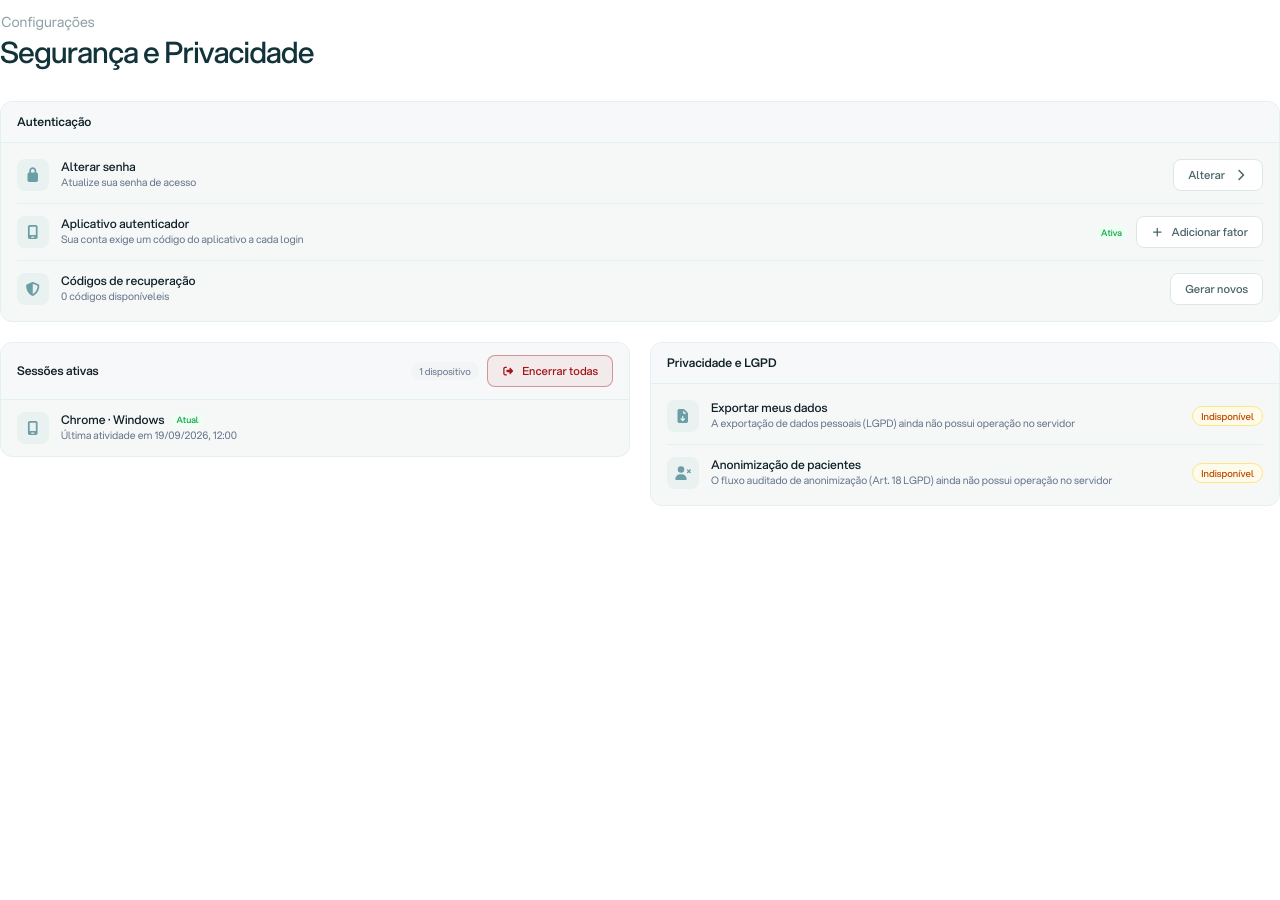
Test case: segurança: alterar senha › mantém o formulário e exibe o erro quando a senha atual é recusada
Click the button "Alterar": (1218, 175) [1173,159,1263,191]
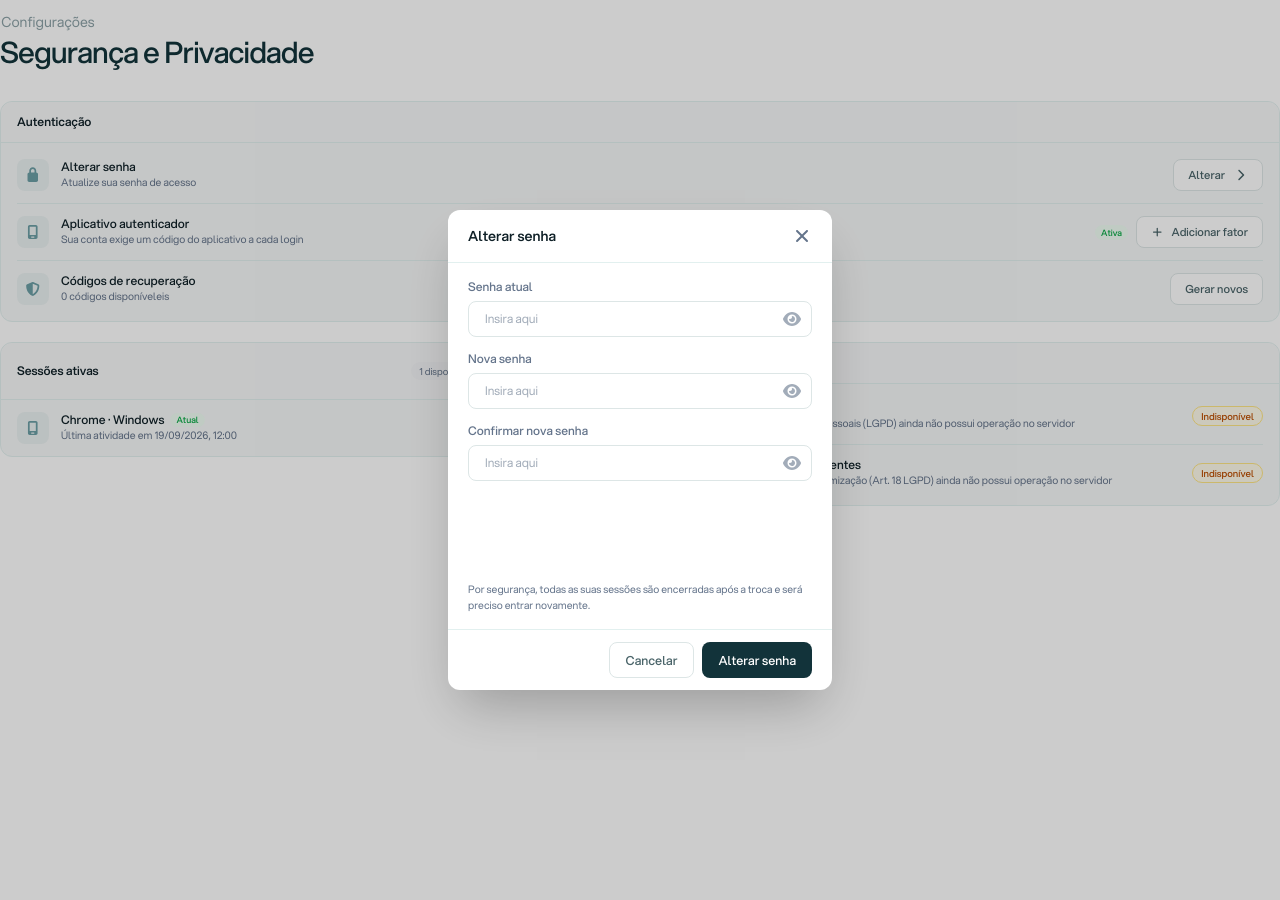
In the 1st password field with placeholder "Insira aqui": (640, 319) [468,301,812,337], type "SenhaErrada#1"
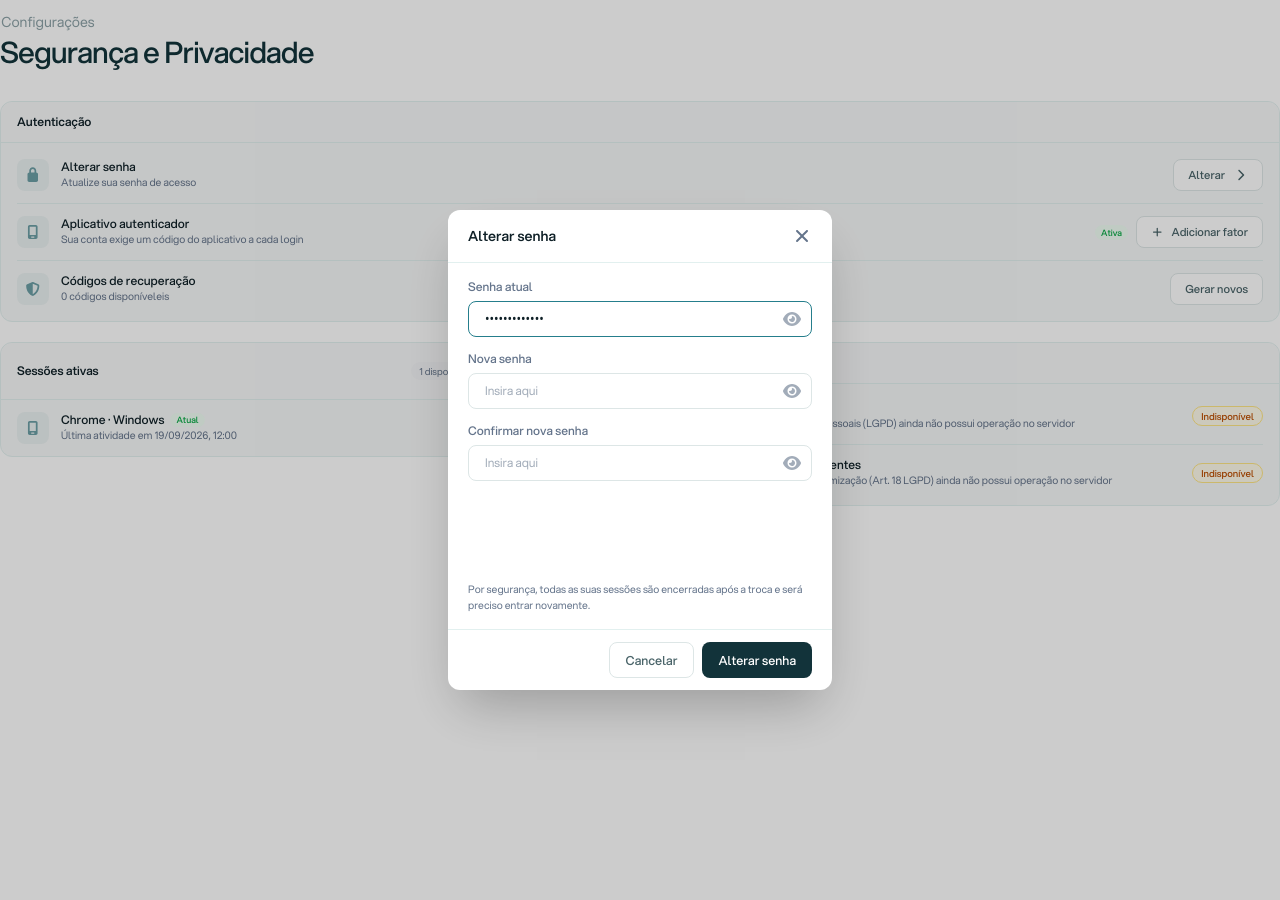
In the 1st password field with placeholder "Insira aqui": (640, 391) [468,373,812,409], type "NovaSenha#123"
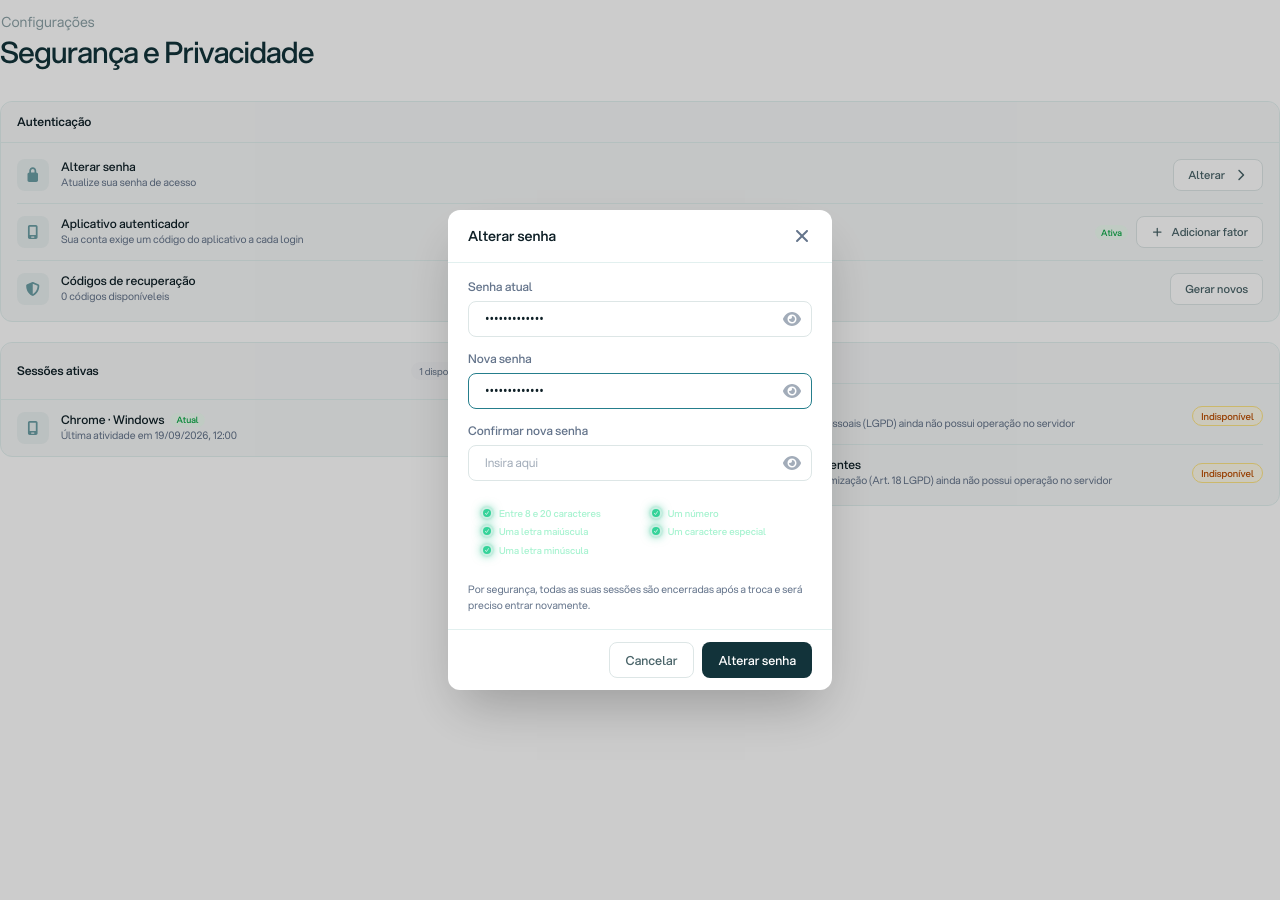
In the password field with placeholder "Insira aqui": (640, 463) [468,445,812,481], type "NovaSenha#123"
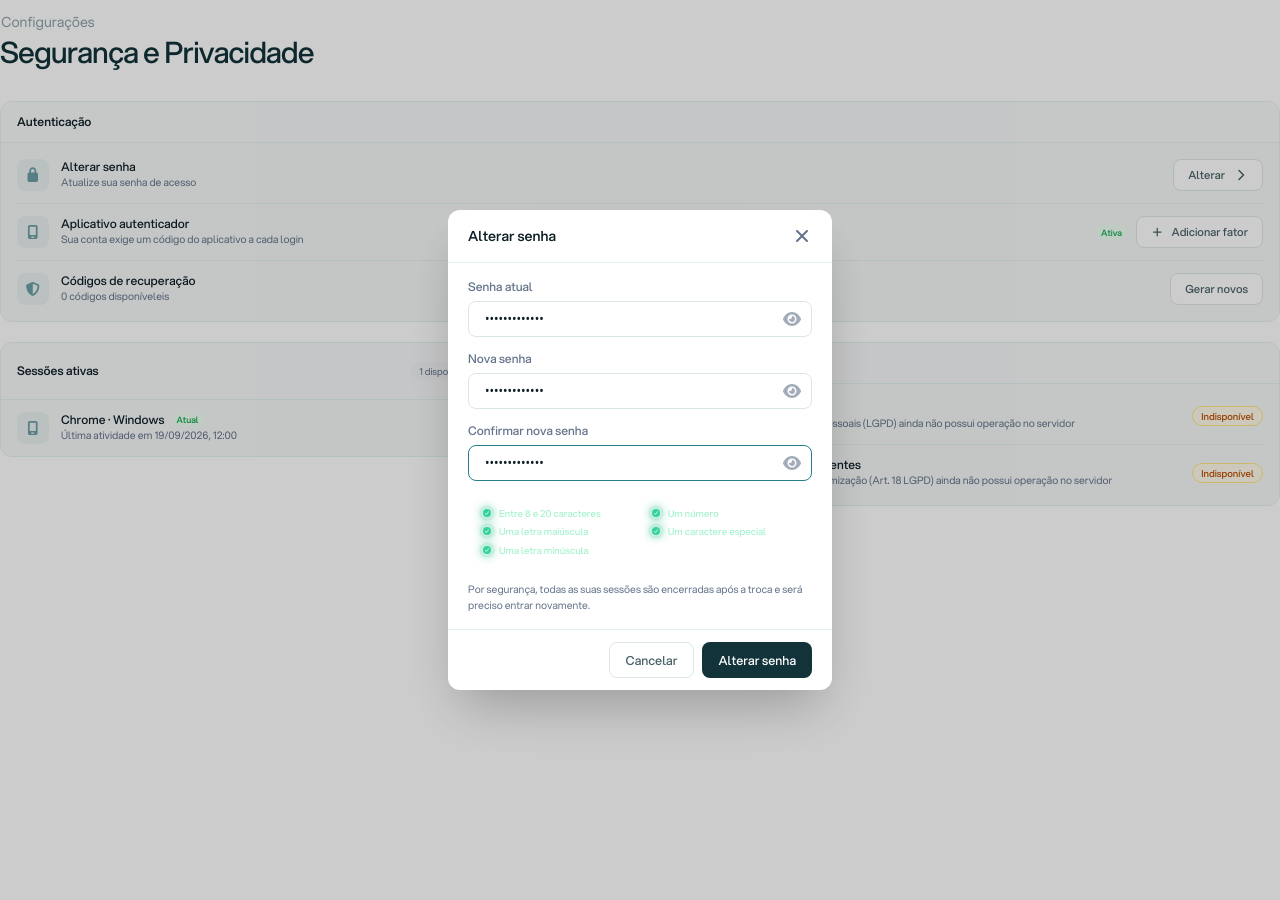
Click the button "Alterar senha": (757, 660) [702,642,812,678]
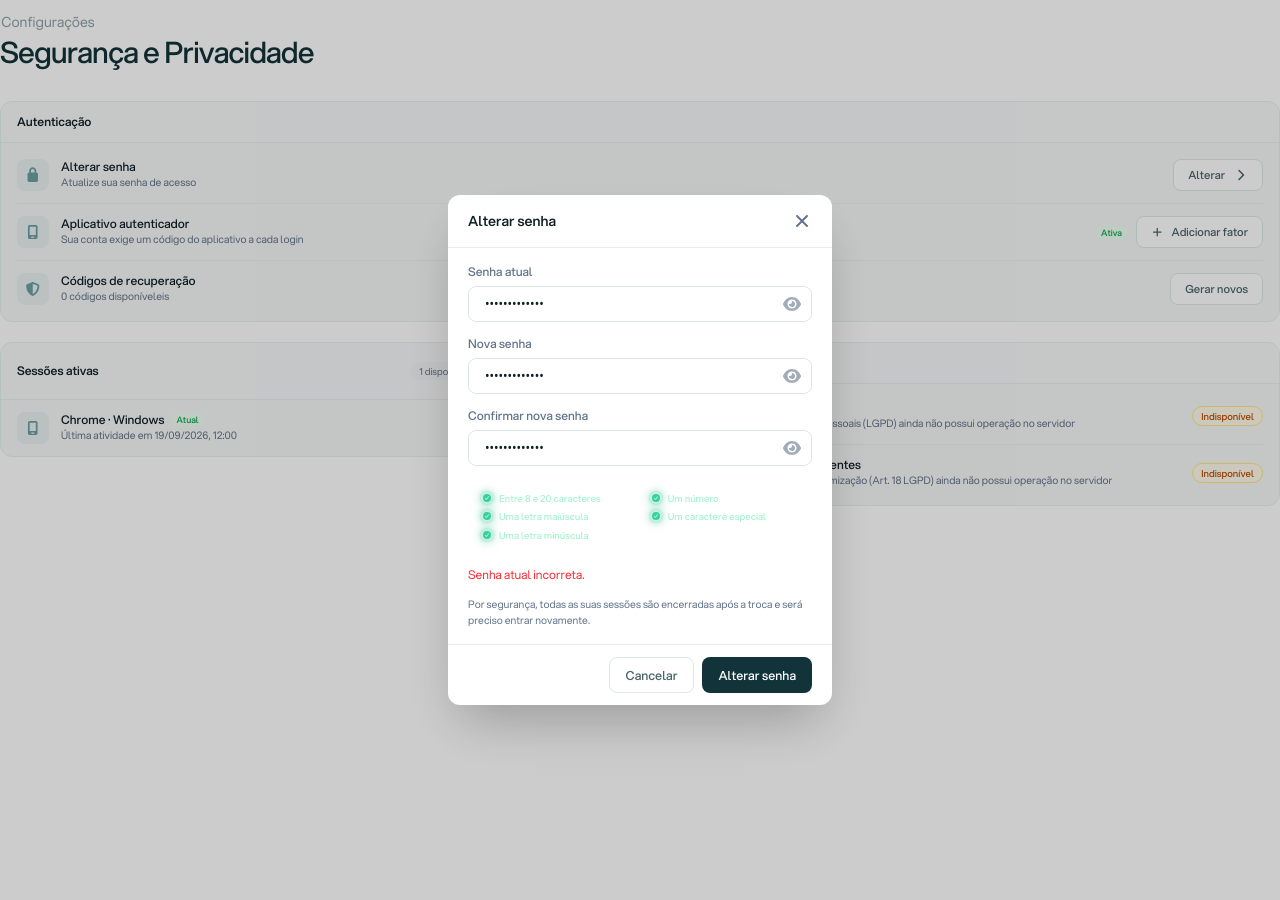
Check: the text "Senha atual incorreta." is shown, box [468,566,584,583]
